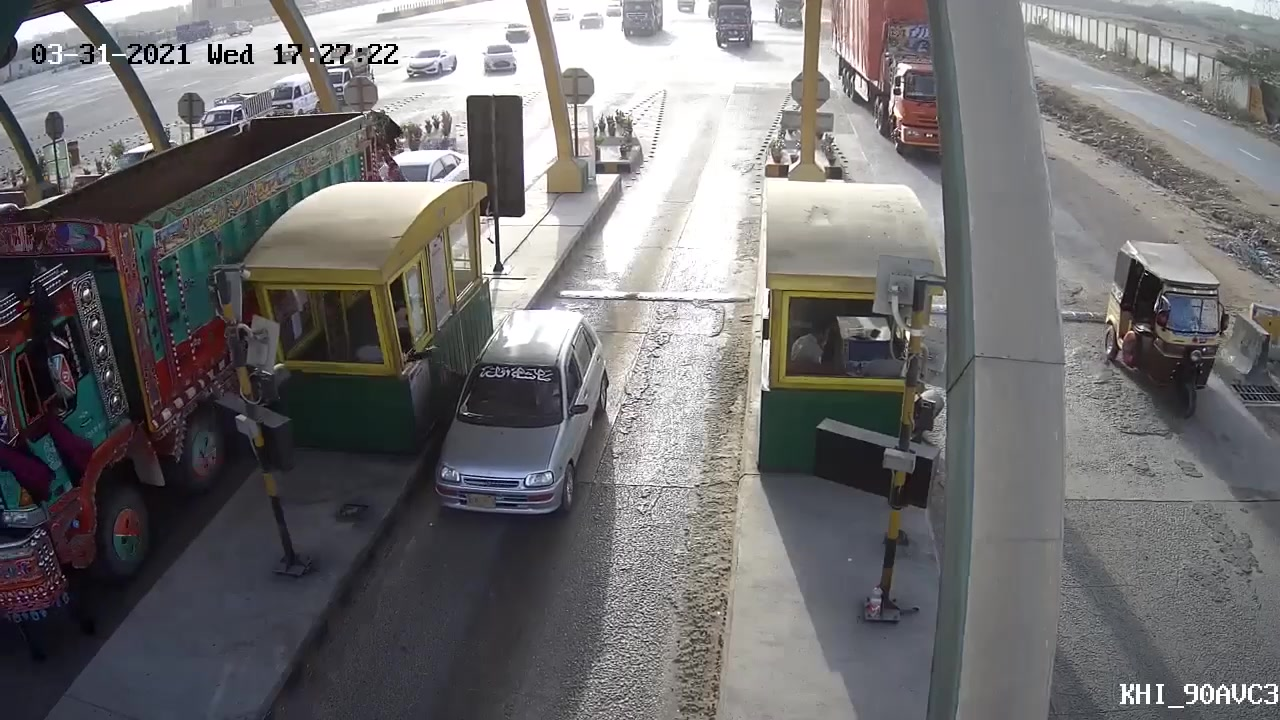F1: (433, 308, 612, 521)
